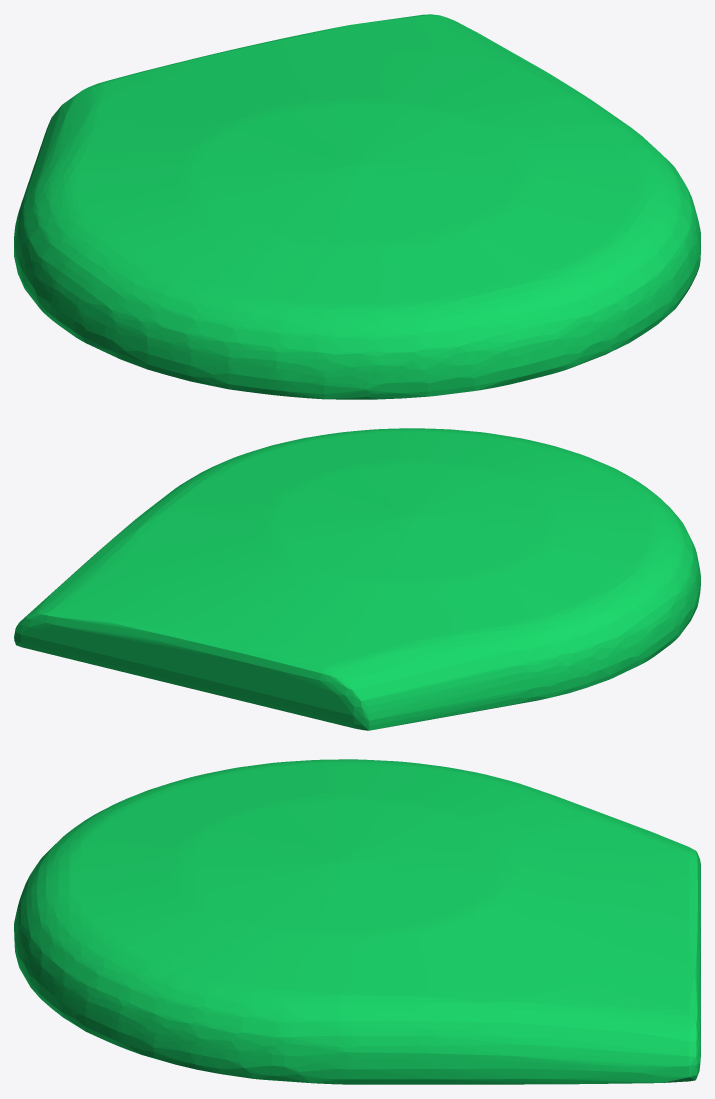
Rendered from left_hip_pitch_link_part_23.obj.
3 renders of one model, top to bottom at view 1: azimuth 30°, elevation 25°; view 2: azimuth 150°, elevation 25°; view 3: azimuth 270°, elevation 25°, orthographic. The views are drawn at different scales.
Bounding box in the file's own units: 0.1239 × 0.0178 × 0.1288.
